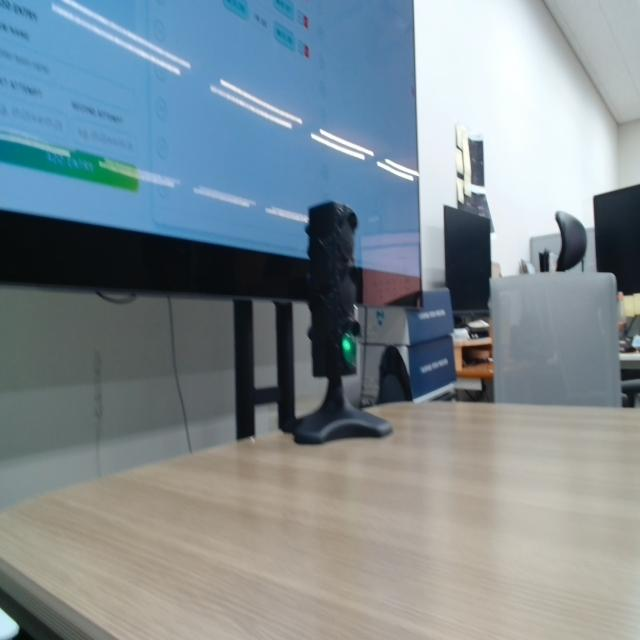green_light: (342, 334, 357, 366)
